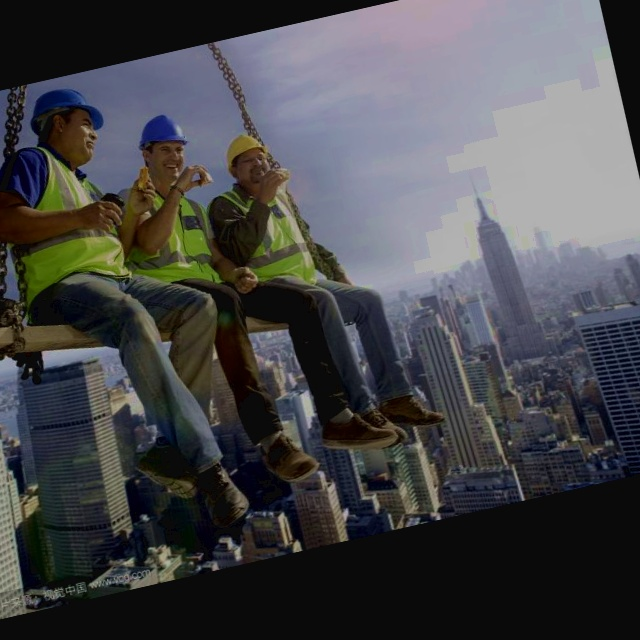Con_Casco: (30, 83, 111, 168), (129, 110, 195, 180), (221, 130, 272, 181)
Con_Chaleco: (0, 145, 131, 297), (204, 167, 324, 298), (114, 171, 221, 295)
